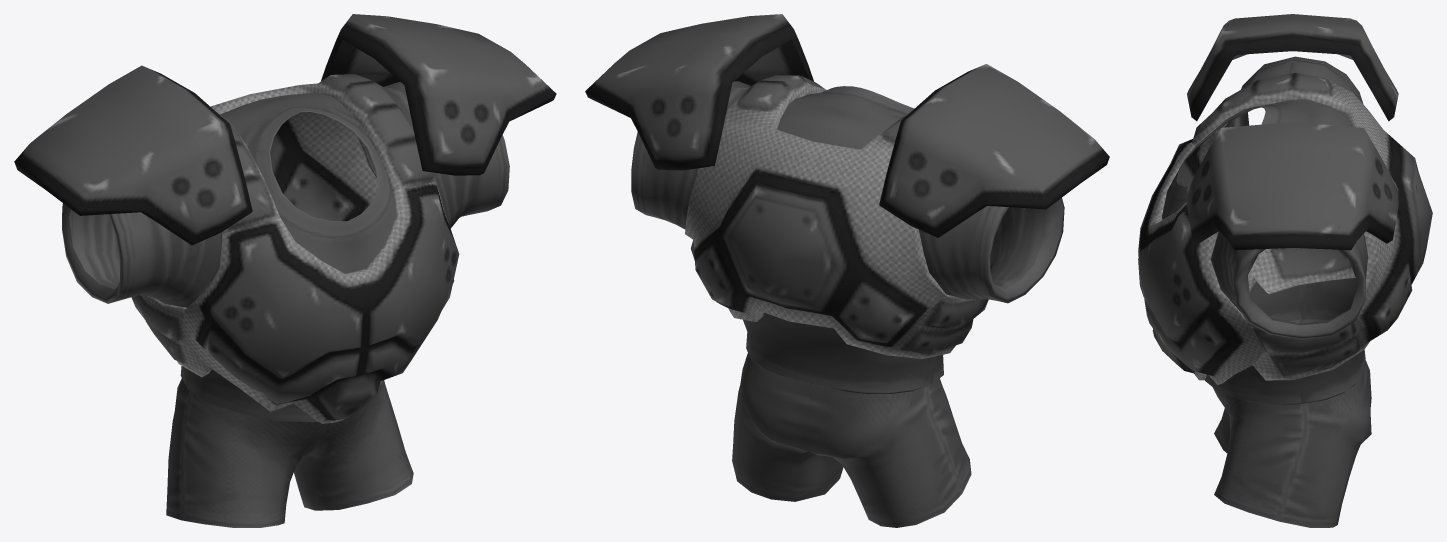
3 renders of one model, left to right at view 1: azimuth 30°, elevation 25°; view 2: azimuth 150°, elevation 25°; view 3: azimuth 270°, elevation 25°, orthographic. The views are drawn at different scales.
Visible parts, largest first — view 1: model_0_submesh_0, model_0_submesh_1; view 2: model_0_submesh_0, model_0_submesh_1; view 3: model_0_submesh_0, model_0_submesh_1.
Part boxes in pixels (bbox=[...]): model_0_submesh_0: bbox=[14, 14, 556, 423]; model_0_submesh_1: bbox=[62, 82, 509, 527]; model_0_submesh_0: bbox=[585, 14, 1109, 359]; model_0_submesh_1: bbox=[631, 81, 1064, 527]; model_0_submesh_0: bbox=[1138, 14, 1432, 384]; model_0_submesh_1: bbox=[1162, 56, 1371, 527].
Size of the model in its own units: 1.49 by 1.35 by 0.85.
